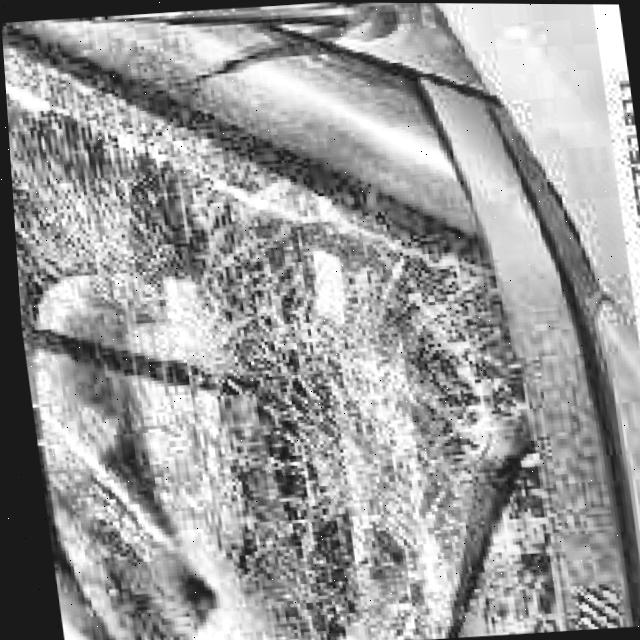glass_shatter: (170, 280, 468, 640)
